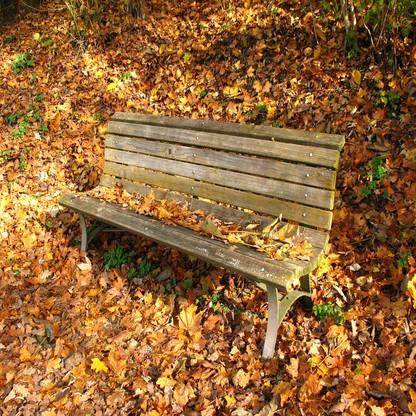obstacle: (59, 96, 353, 360)
